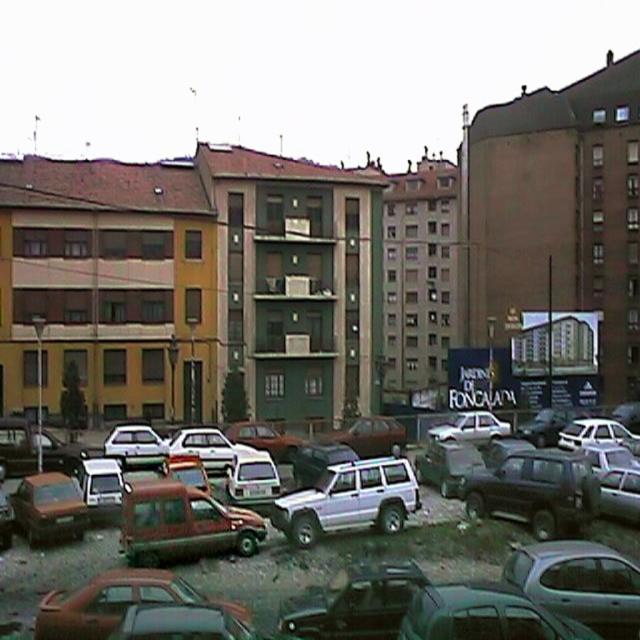car: (268, 451, 417, 545)
